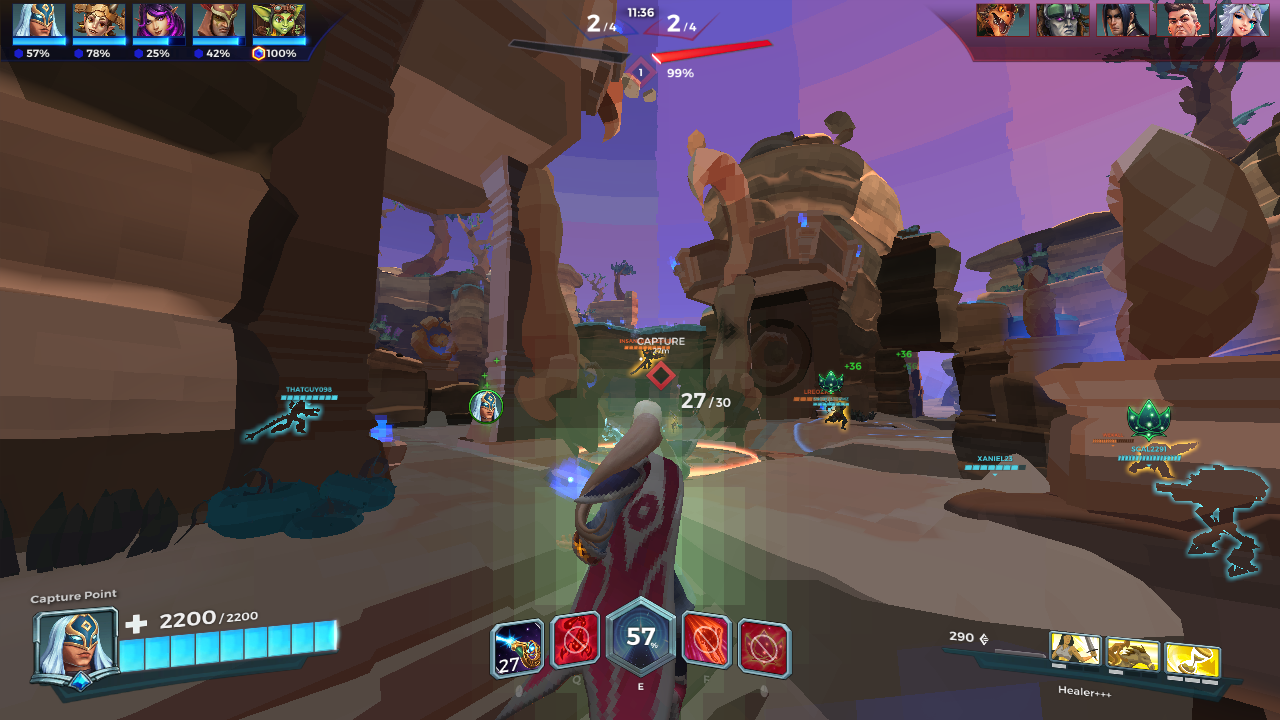model: (630, 341, 665, 377), (828, 398, 849, 436)
